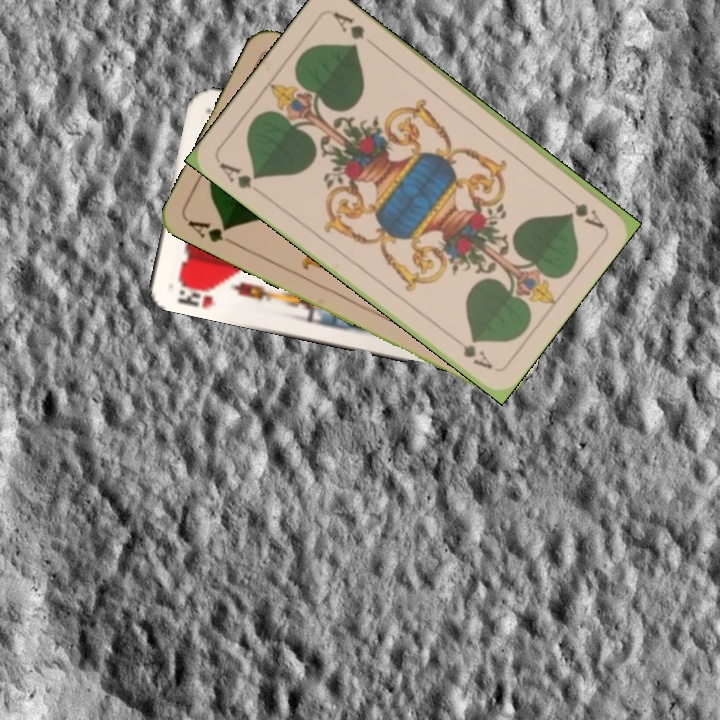GA: (556, 188, 607, 231), (183, 216, 240, 249), (215, 158, 261, 192)
HK: (172, 277, 217, 311)
